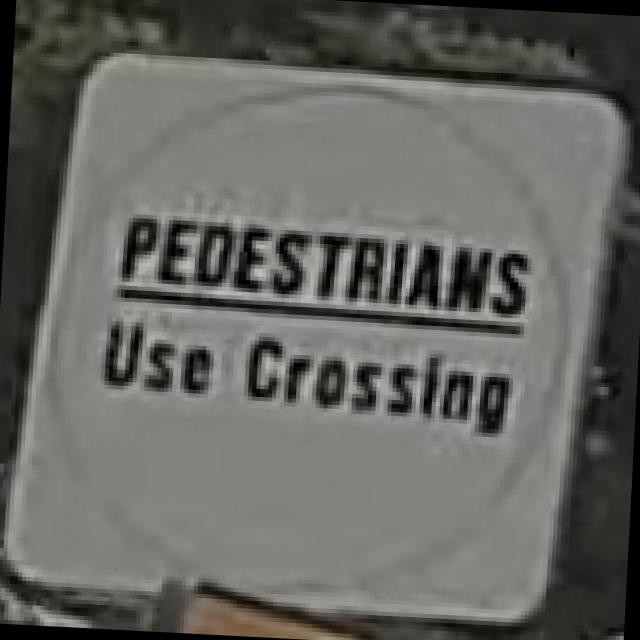pedestriancrossing_sign: (0, 40, 633, 631)
